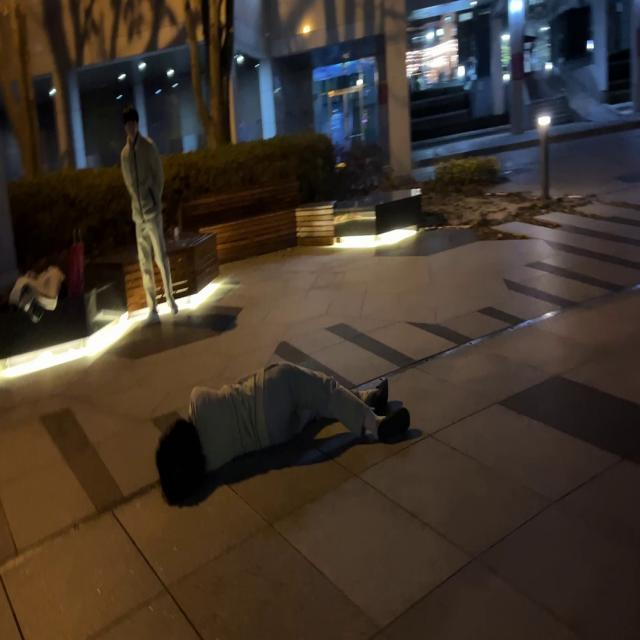Fall: (156, 364, 410, 506), (121, 108, 178, 322)
